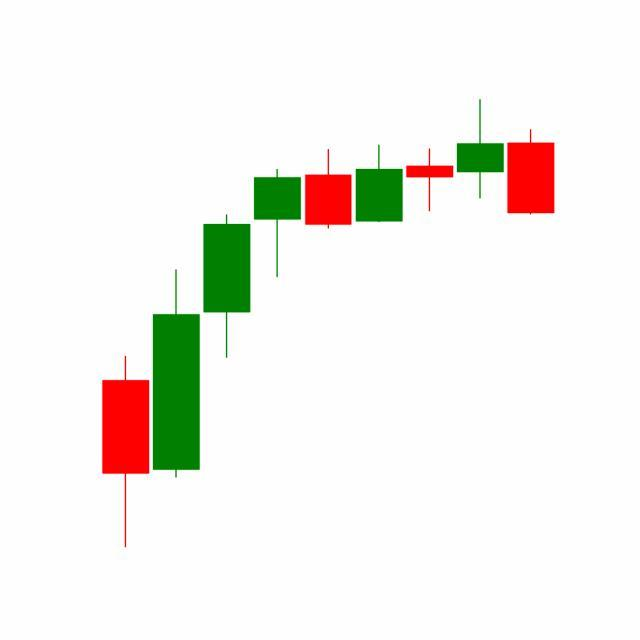Hikkake Pattern: (252, 100, 506, 282)
